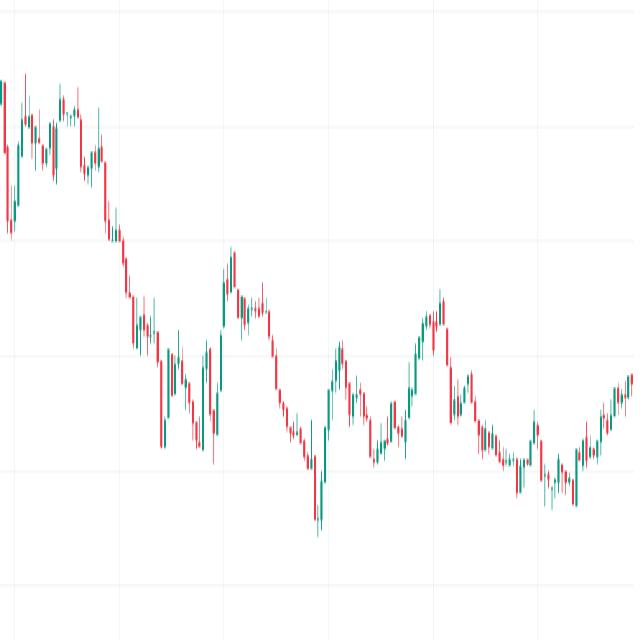Triple-Bottom: (154, 315, 229, 472)
